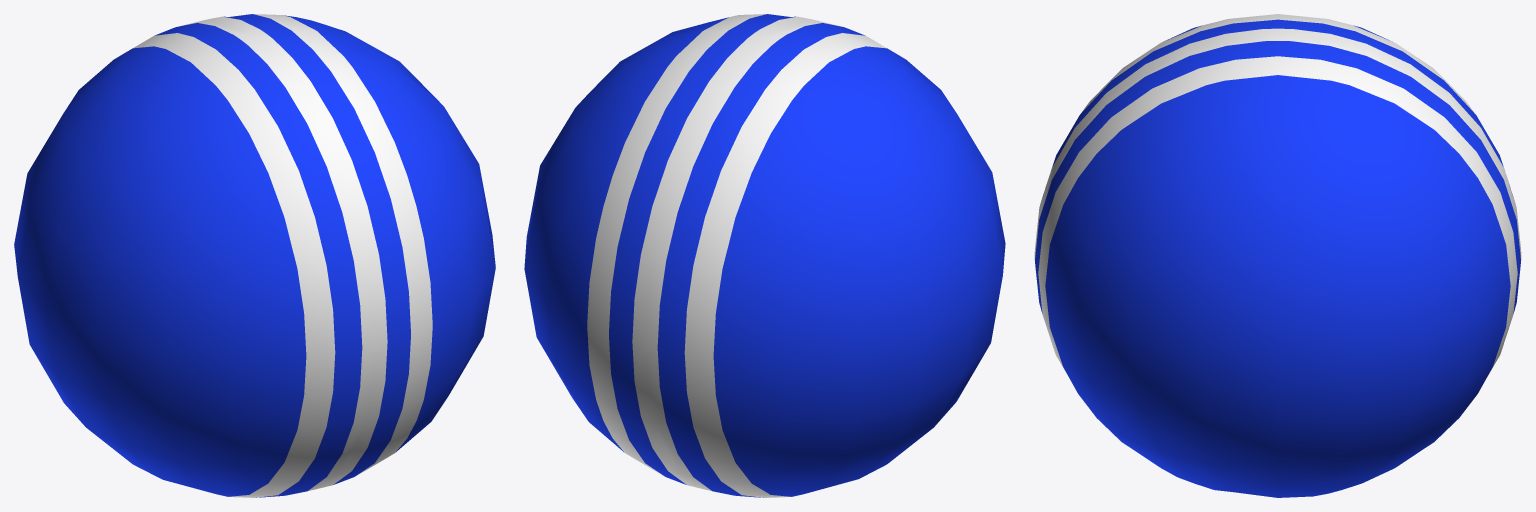
Rendered from croquetBall_regulation.fbx.
3 renders of one model, left to right at view 1: azimuth 30°, elevation 25°; view 2: azimuth 150°, elevation 25°; view 3: azimuth 270°, elevation 25°, orthographic.
Visible parts, largest first — view 1: Ball (Regulation); view 2: Ball (Regulation); view 3: Ball (Regulation).
Part boxes in pixels (box(x1,y1,x2,y2)): Ball (Regulation): box(14, 14, 495, 497); Ball (Regulation): box(524, 14, 1005, 497); Ball (Regulation): box(1034, 14, 1521, 497).
Size of the model in its own units: 9.18 by 9.21 by 9.21.
